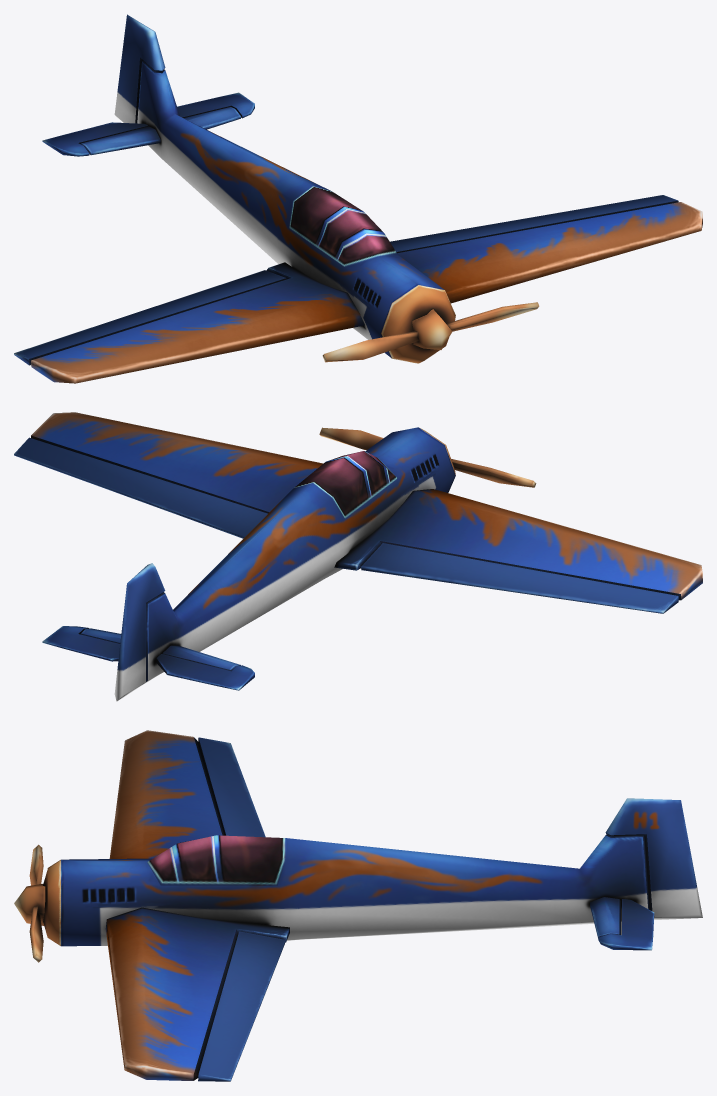
3 renders of one model, top to bottom at view 1: azimuth 30°, elevation 25°; view 2: azimuth 150°, elevation 25°; view 3: azimuth 270°, elevation 25°, orthographic. The views are drawn at different scales.
Visible parts, largest first — view 1: plane_2, skrzydlo_prawe, skrzydlo_lewe, ster_prawy, smiglo, ster_lewy, ogonowy, tylni_prawy, statecznik_prawy, tylni_lewy, statecznik_lewy; view 2: plane_2, skrzydlo_prawe, skrzydlo_lewe, ster_prawy, ster_lewy, ogonowy, tylni_prawy, smiglo, tylni_lewy, statecznik_prawy; view 3: plane_2, skrzydlo_lewe, skrzydlo_prawe, ogonowy, ster_lewy, ster_prawy, smiglo, tylni_lewy, statecznik_lewy.
Boxes of the visible parts, <box> form: plane_2: <box>137,60,455,363</box>; skrzydlo_prawe: <box>31,262,364,383</box>; skrzydlo_lewe: <box>397,202,702,303</box>; ster_prawy: <box>14,270,286,365</box>; smiglo: <box>322,302,539,362</box>; ster_lewy: <box>390,195,678,253</box>; ogonowy: <box>114,14,165,123</box>; tylni_prawy: <box>42,122,148,156</box>; statecznik_prawy: <box>80,126,160,155</box>; tylni_lewy: <box>177,92,254,118</box>; statecznik_lewy: <box>184,107,241,129</box>; plane_2: <box>143,427,455,684</box>; skrzydlo_prawe: <box>334,489,702,600</box>; skrzydlo_lewe: <box>31,412,323,513</box>; ster_prawy: <box>361,543,678,613</box>; ster_lewy: <box>14,437,267,538</box>; ogonowy: <box>114,563,165,701</box>; tylni_prawy: <box>156,654,254,690</box>; smiglo: <box>319,427,536,487</box>; tylni_lewy: <box>42,626,120,661</box>; statecznik_prawy: <box>162,645,240,671</box>; plane_2: <box>43,834,650,946</box>; skrzydlo_lewe: <box>105,907,289,1080</box>; skrzydlo_prawe: <box>109,730,224,858</box>; ogonowy: <box>605,798,702,919</box>; ster_lewy: <box>198,931,285,1081</box>; ster_prawy: <box>198,737,265,837</box>; smiglo: <box>14,844,45,962</box>; tylni_lewy: <box>598,899,654,950</box>; statecznik_lewy: <box>590,897,621,938</box>.
Size of the model in its own units: 17.67 by 3.59 by 15.24.
1 material, 1 textured.
